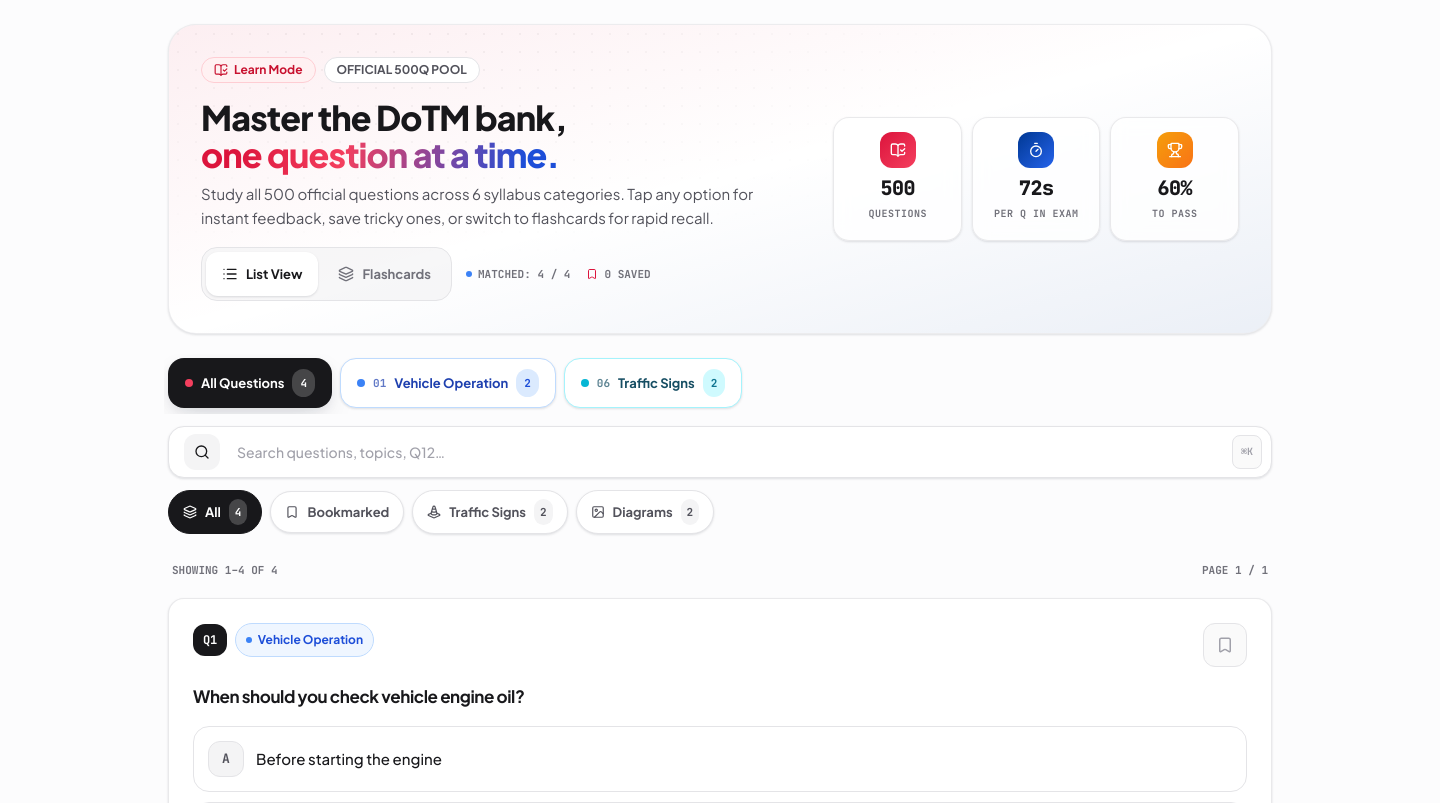
Test case: LearnView Integration › searches questions by keyword
The width and height of the screenshot is (1440, 803).
Type "beam" into the search field with placeholder "Search questions, topics, Q12…" at (720, 452), box [168, 426, 1272, 478]
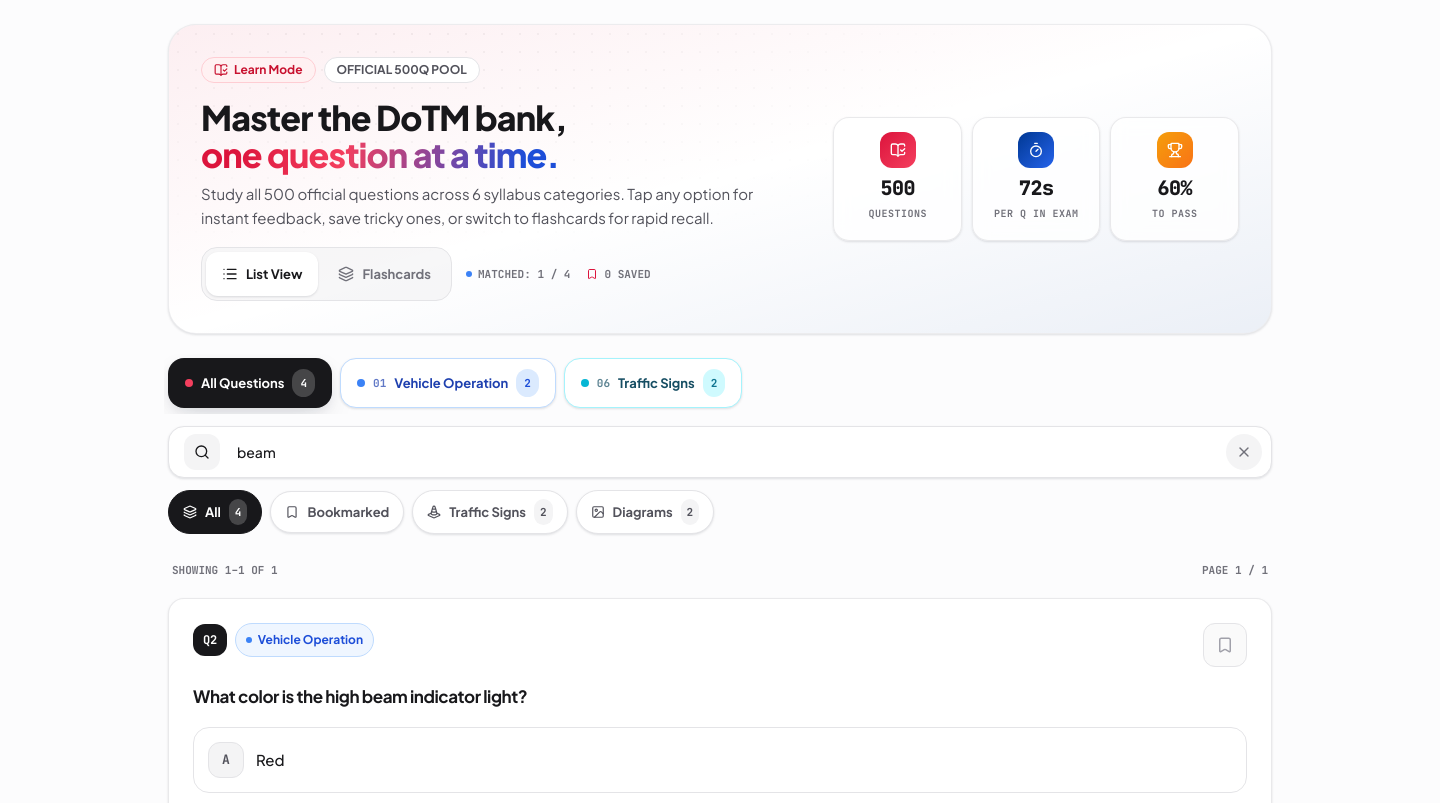
Expected: the heading "What color is the high beam indicator light?" is shown, [193, 684, 527, 706]
Result: the heading "When should you check vehicle engine oil?" is gone
